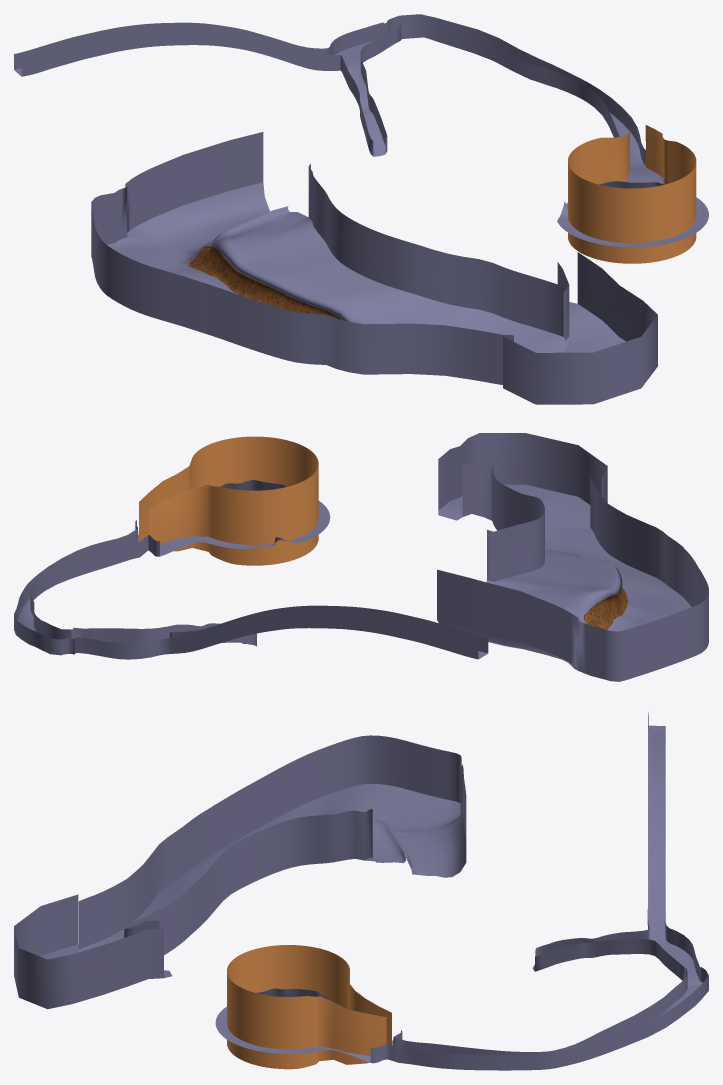
File: MineLevelFloorCollision 1.fbx
The picture shows the model from 3 angles, top to bottom: view 1: azimuth 30°, elevation 25°; view 2: azimuth 150°, elevation 25°; view 3: azimuth 270°, elevation 25°; orthographic projection. The views are drawn at different scales.
Parts seen in each view (by area): view 1: CollWall.004, Colis.001, CollwallSpiralTall, CollWall.001, CollWall.002, CollWall.003, CollWall.007, CollWall.006, Colis, Collis.001; view 2: CollWall.004, CollwallSpiralTall, Colis.001, CollWall.003, CollWall.002, CollWall.001, CollWall.006, CollWall.007, Collis.001, Colis, CollWall.005, CollWall; view 3: CollWall.004, CollwallSpiralTall, Colis.001, CollWall.001, CollWall.002, CollWall.003, Colis, CollWall.006, CollWall.007.
Boxes of the visible parts, x1,y1,x2,y2 form: CollWall.004: (91,132,513,384); Colis.001: (107,182,568,352); CollwallSpiralTall: (568,125,696,263); CollWall.001: (308,164,563,336); CollWall.002: (503,252,657,404); CollWall.003: (14,14,645,165); CollWall.007: (21,29,373,155); CollWall.006: (360,21,619,151); Colis: (14,40,708,247); Collis.001: (563,302,625,352); CollWall.004: (437,477,708,681); CollwallSpiralTall: (138,436,318,565); Colis.001: (437,526,691,670); CollWall.003: (14,520,478,659); CollWall.002: (438,433,607,510); CollWall.001: (487,464,544,581); CollWall.006: (30,535,243,643); CollWall.007: (169,605,488,653); Collis.001: (438,484,590,529); Colis: (17,501,487,659); CollWall.005: (462,462,491,520); CollWall: (221,480,286,490); CollWall.004: (78,735,466,949); CollwallSpiralTall: (227,945,391,1069); Colis.001: (78,783,466,951); CollWall.001: (124,809,372,954); CollWall.002: (14,894,163,1009); CollWall.003: (370,912,708,1070); Colis: (215,725,702,1062); CollWall.006: (393,939,687,1055); CollWall.007: (535,712,649,956).
Size of the model in its own units: 32571 by 8710 by 35249.
